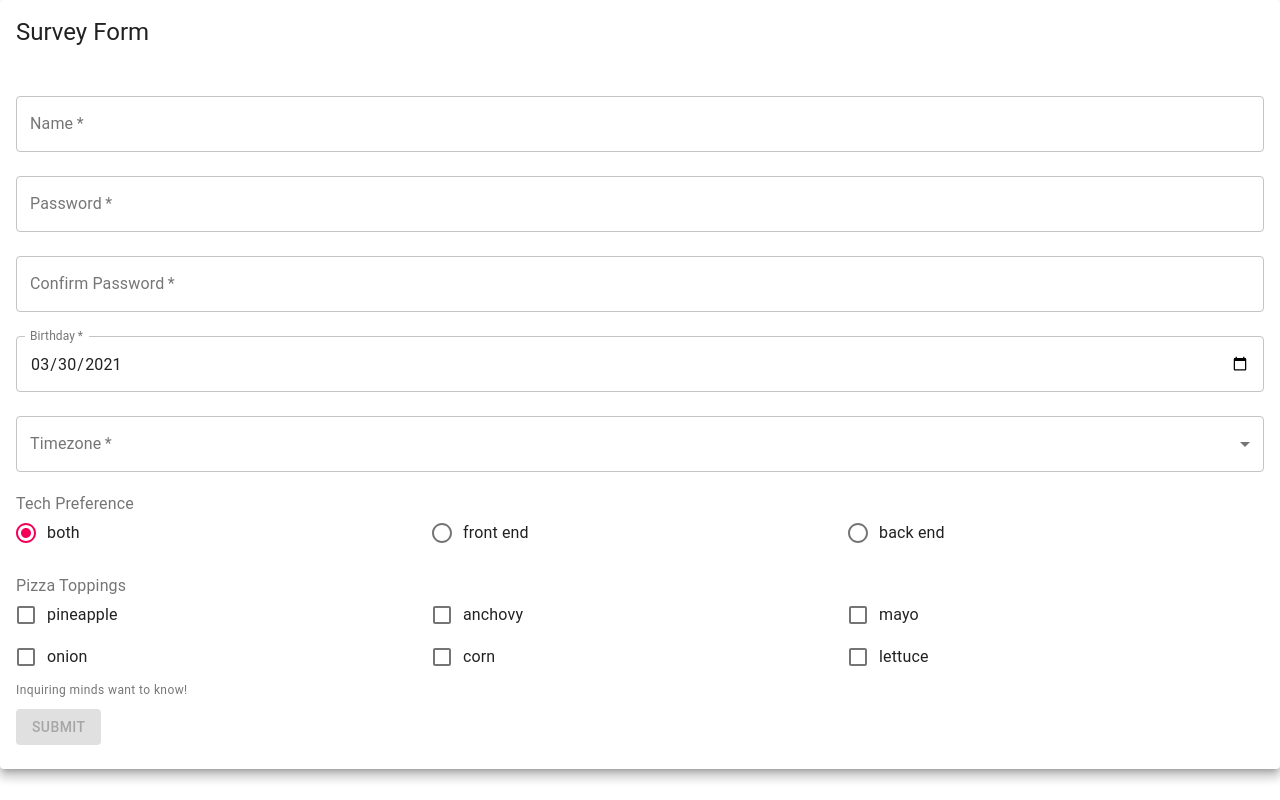
Test: SurveyForm › handles password validation
The image size is (1280, 800).
Type "abc" into the field with test id "name" at (640, 124), box [16,96,1264,152]
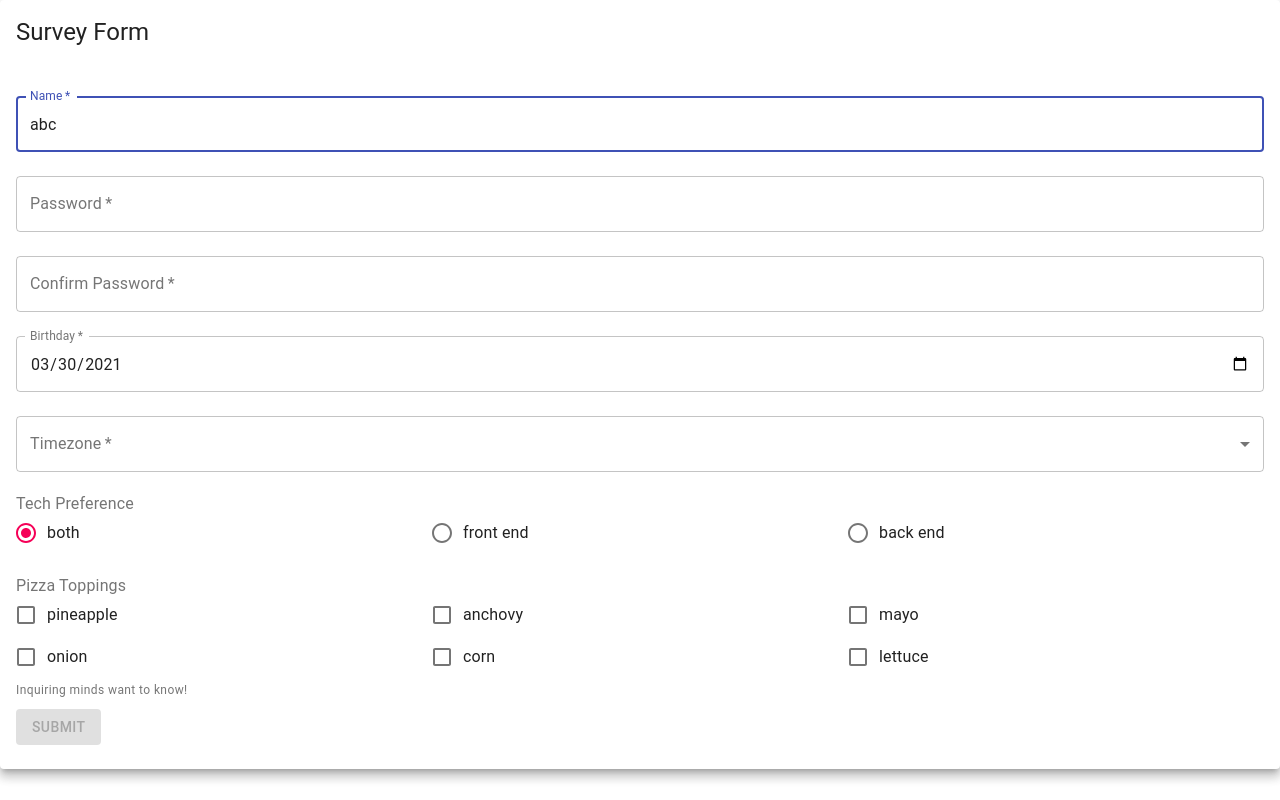
Check: the button with test id "submitBtn" is disabled, box [16,709,101,745]
# disabled when password, but password does not match confirmPassword
Type "def" into the password field with test id "password" at (640, 204), box [16,176,1264,232]
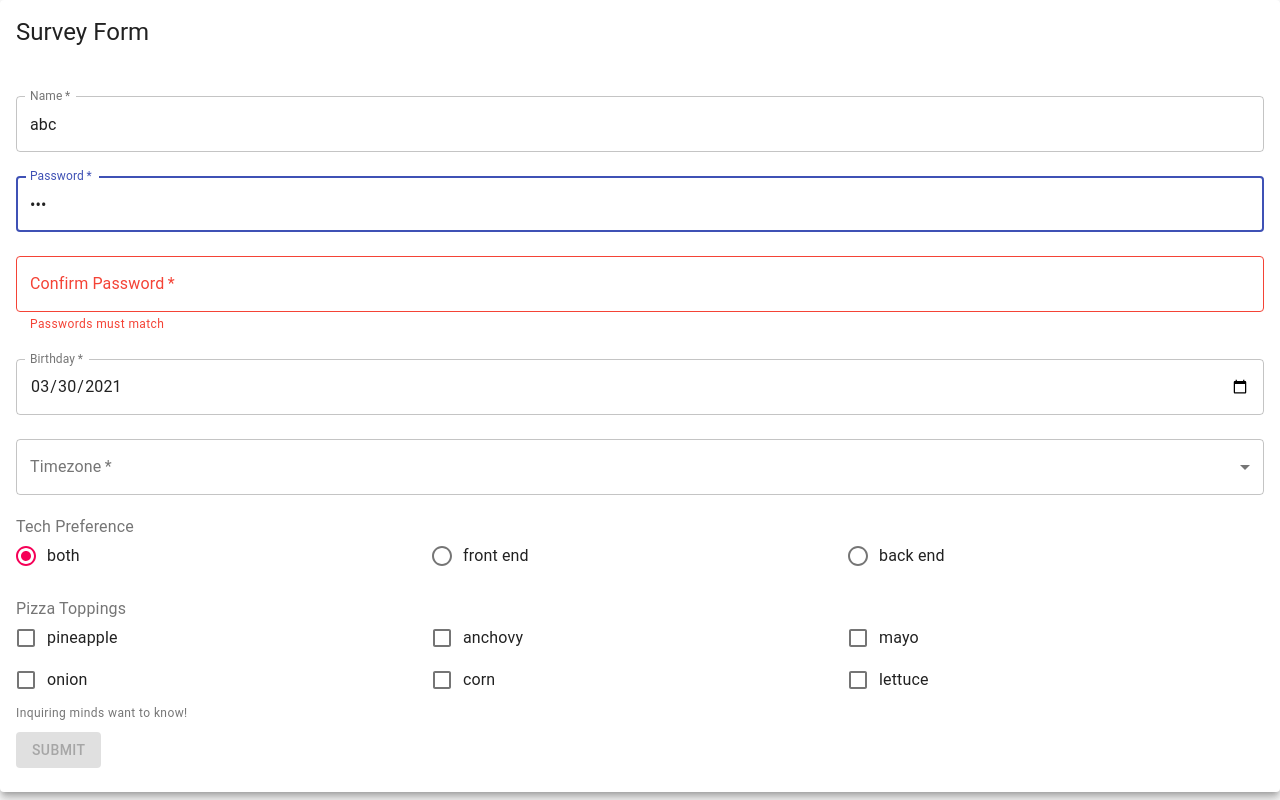
Check: the button with test id "submitBtn" is disabled, box [16,732,101,768]
# enabled when password and password matches confirmPassword
Type "def" into the password field with test id "confirmPassword" at (640, 284), box [16,256,1264,312]
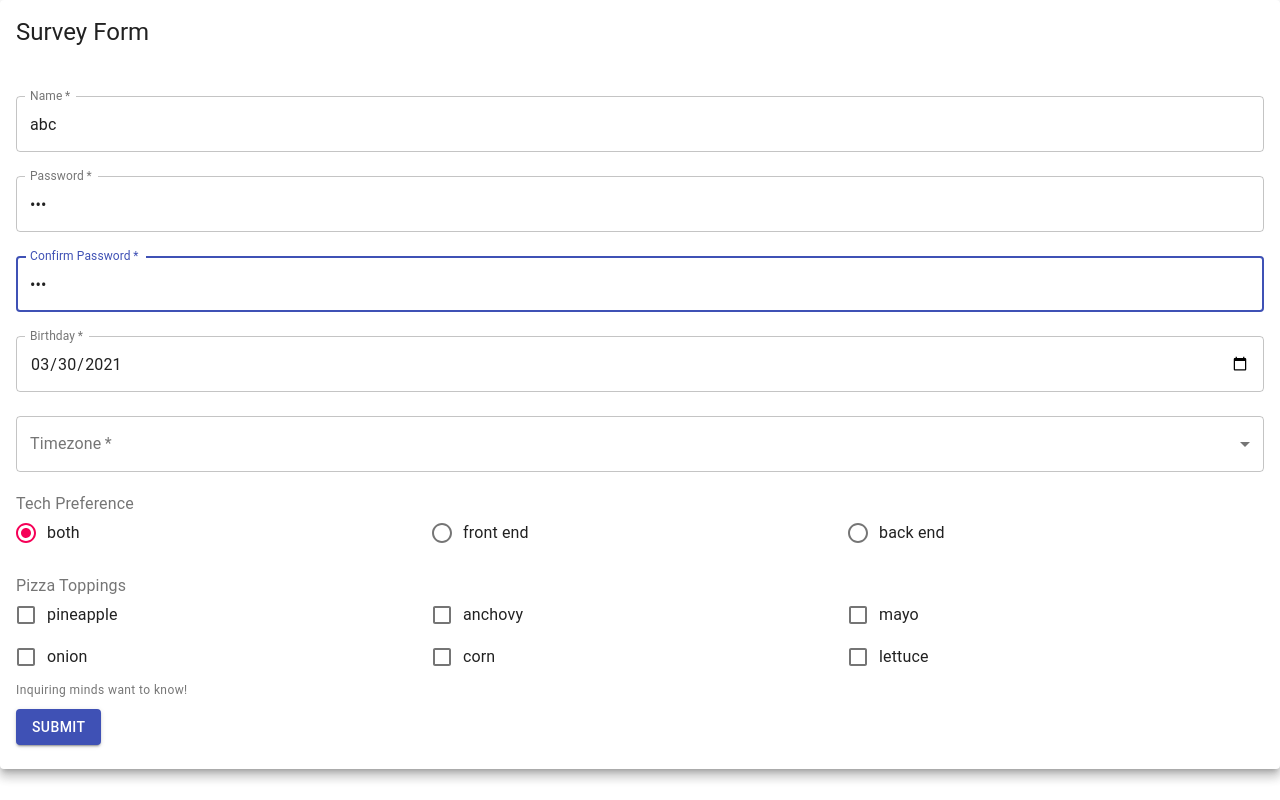
Check: the button with test id "submitBtn" is enabled, box [16,709,101,745]
